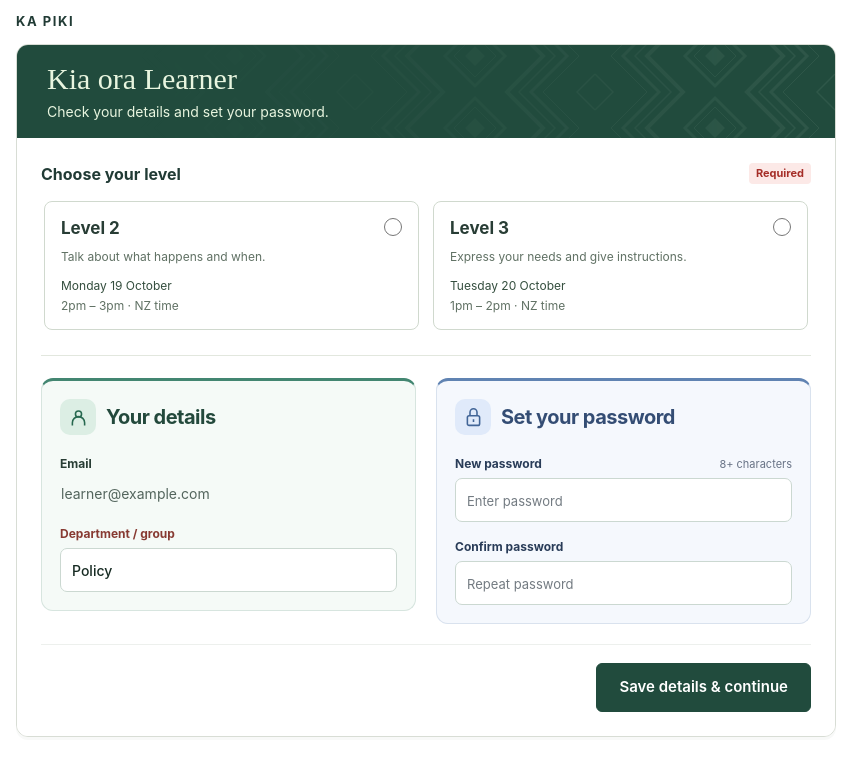
Test: requires the learner to choose a level and does not preselect one
This screenshot has width=853, height=764.
Check: the submit button is disabled, box [596, 663, 811, 712]
Type "test-only-password" into the password field named "password" at (624, 500), box [455, 478, 792, 522]
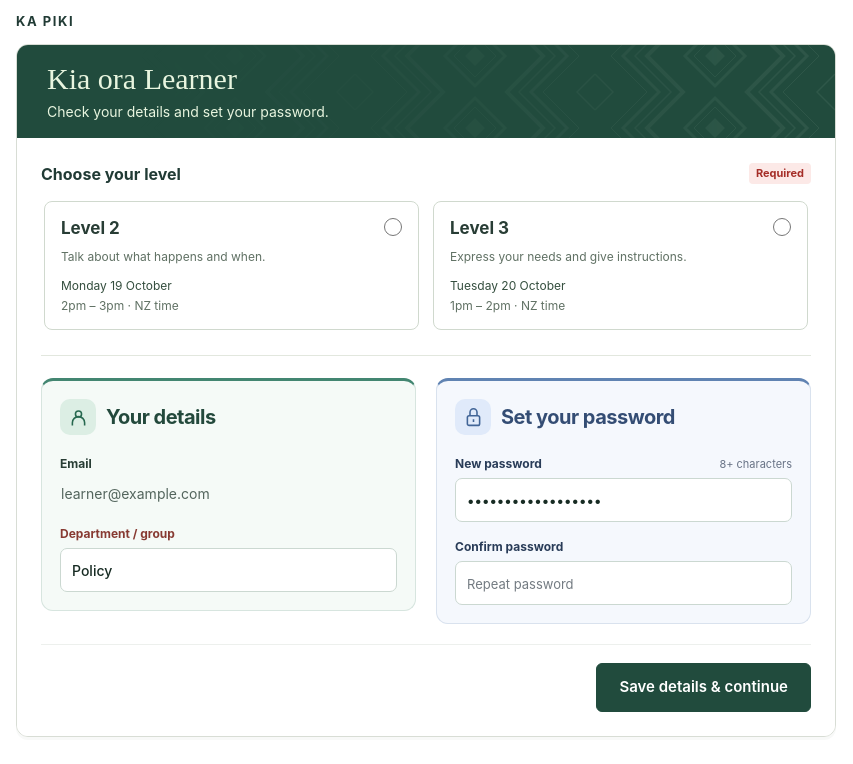
Type "test-only-password" into the password field named "confirmPassword" at (624, 583), box [455, 561, 792, 605]
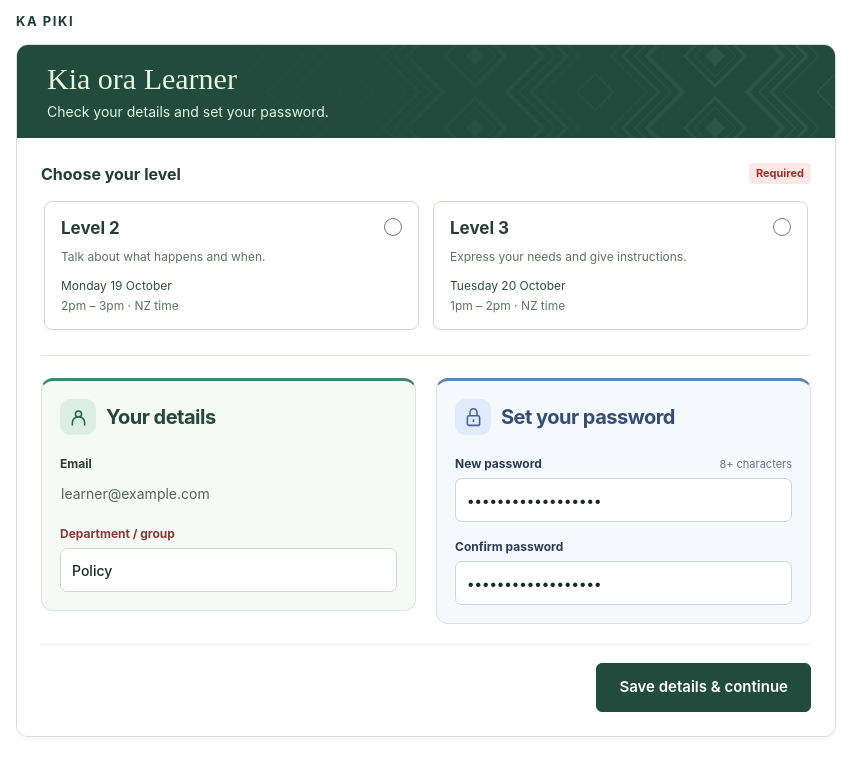
Submit the form
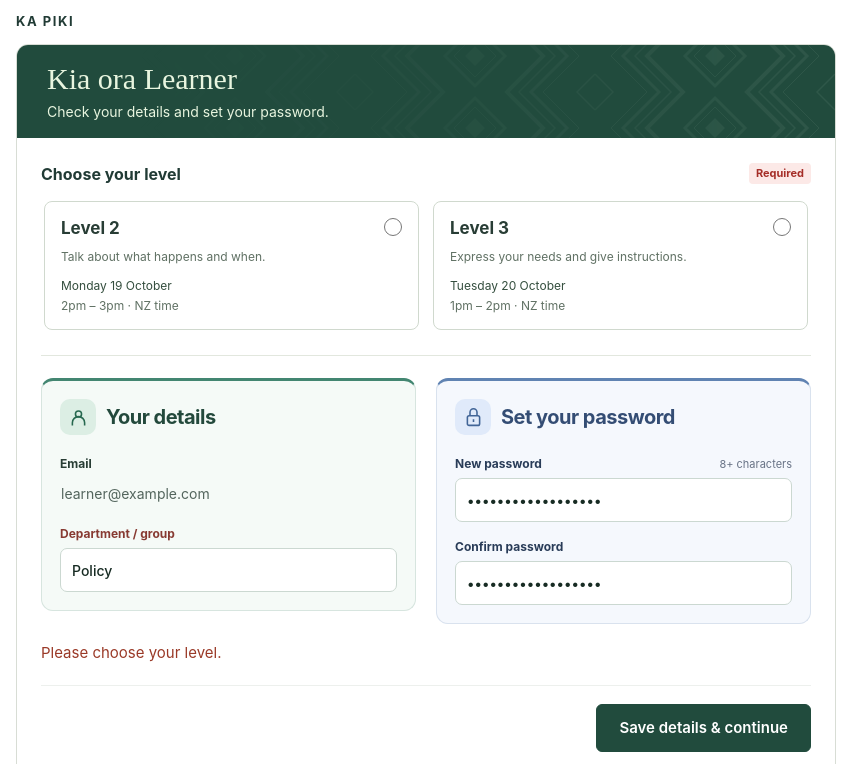
Check: the message "Please choose your level." is shown, box [41, 643, 222, 662]
Click the radio button with aria-label "Level 2" at (393, 226), box [384, 218, 402, 236]
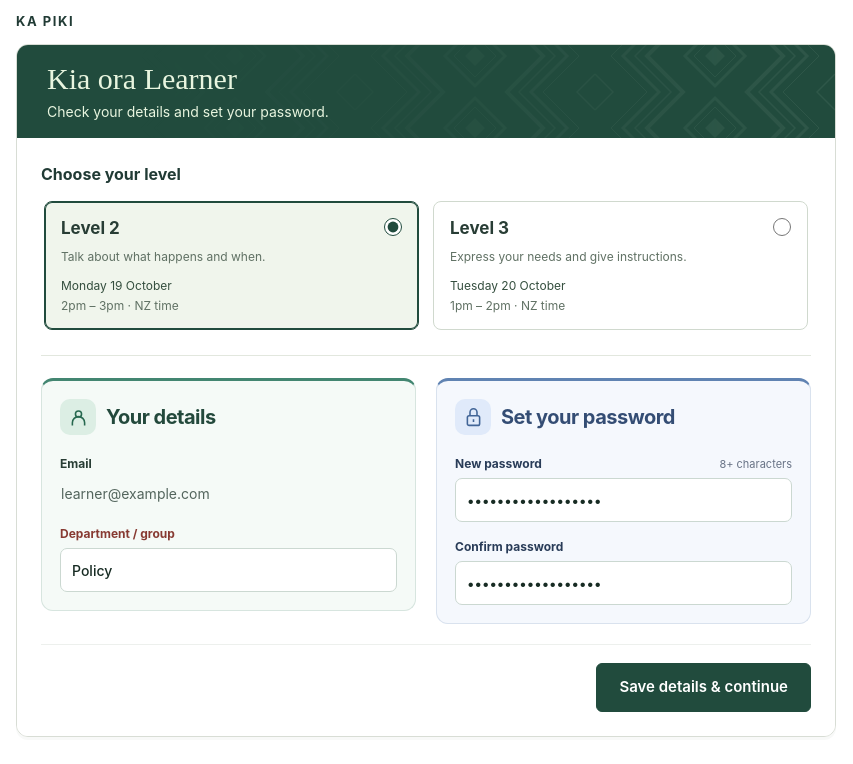
Check: the submit button is enabled, box [596, 663, 811, 712]
